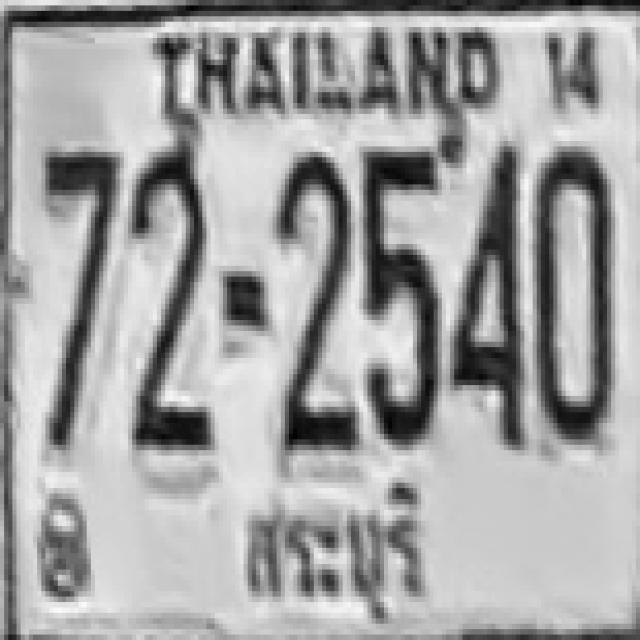0: (533, 144, 611, 442)
2: (272, 149, 351, 404)
4: (448, 141, 522, 445)
5: (361, 146, 440, 445), (361, 146, 440, 320)
7: (41, 149, 120, 431), (41, 149, 120, 361), (41, 146, 120, 331)
SaraBuri: (223, 482, 431, 620)
